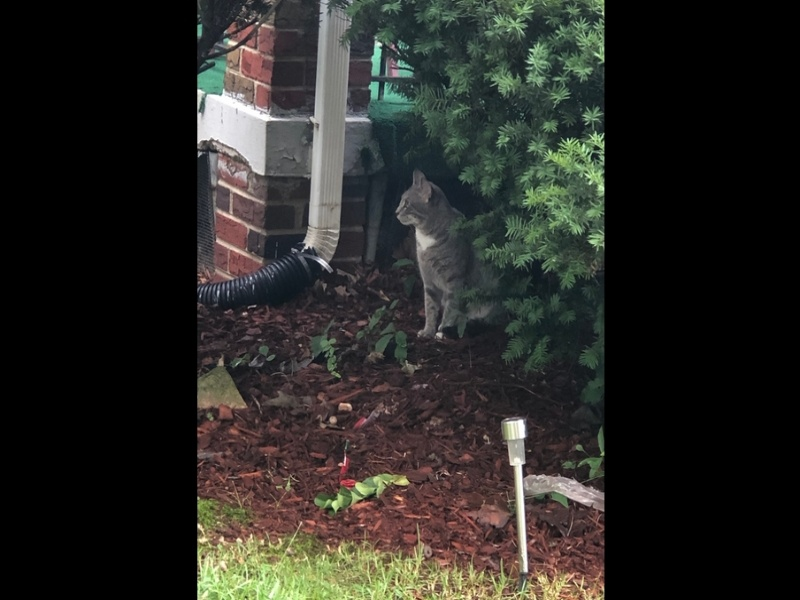cat: (391, 163, 534, 344)
